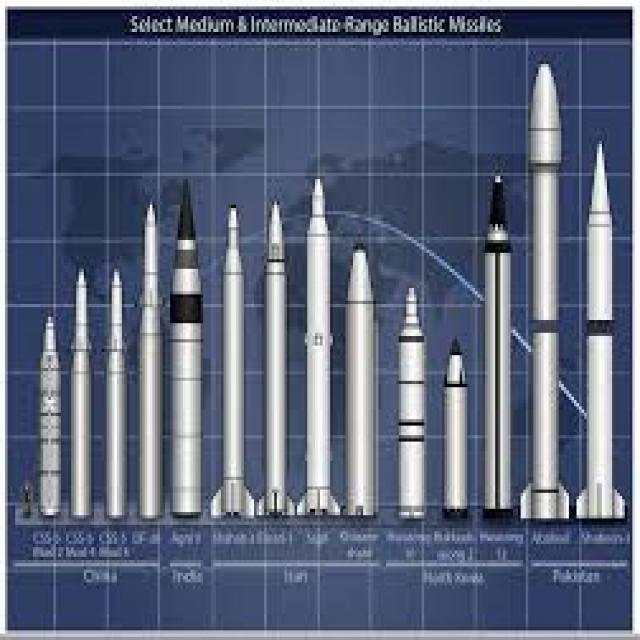missile: (515, 55, 576, 521), (168, 178, 208, 523), (303, 171, 338, 526), (67, 256, 93, 528)
